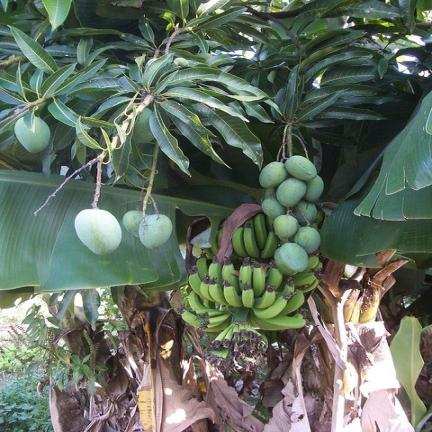banana: (251, 311, 305, 330), (359, 287, 380, 323), (254, 297, 287, 318), (243, 220, 260, 257), (222, 259, 240, 293), (280, 290, 305, 314), (203, 312, 232, 332), (253, 212, 267, 250), (188, 291, 210, 314), (261, 231, 279, 259), (232, 227, 248, 257), (252, 262, 266, 296), (266, 264, 284, 290), (224, 281, 242, 307), (254, 287, 276, 308), (209, 280, 227, 305), (182, 310, 205, 328), (239, 260, 252, 289), (291, 271, 316, 286), (222, 323, 237, 348), (208, 261, 223, 286), (241, 282, 255, 308), (200, 277, 214, 301), (189, 272, 202, 295), (277, 280, 295, 296), (211, 229, 222, 255), (197, 255, 208, 280), (304, 256, 320, 272), (301, 279, 319, 292), (212, 349, 230, 359)
mangoes: (75, 208, 121, 254), (15, 114, 50, 153), (139, 214, 172, 249), (274, 243, 308, 274), (276, 178, 306, 207), (285, 156, 316, 180), (132, 108, 153, 143), (259, 162, 287, 188), (293, 227, 320, 253), (273, 214, 299, 241), (293, 200, 317, 225), (123, 210, 143, 236), (261, 198, 286, 218), (304, 176, 323, 201)
